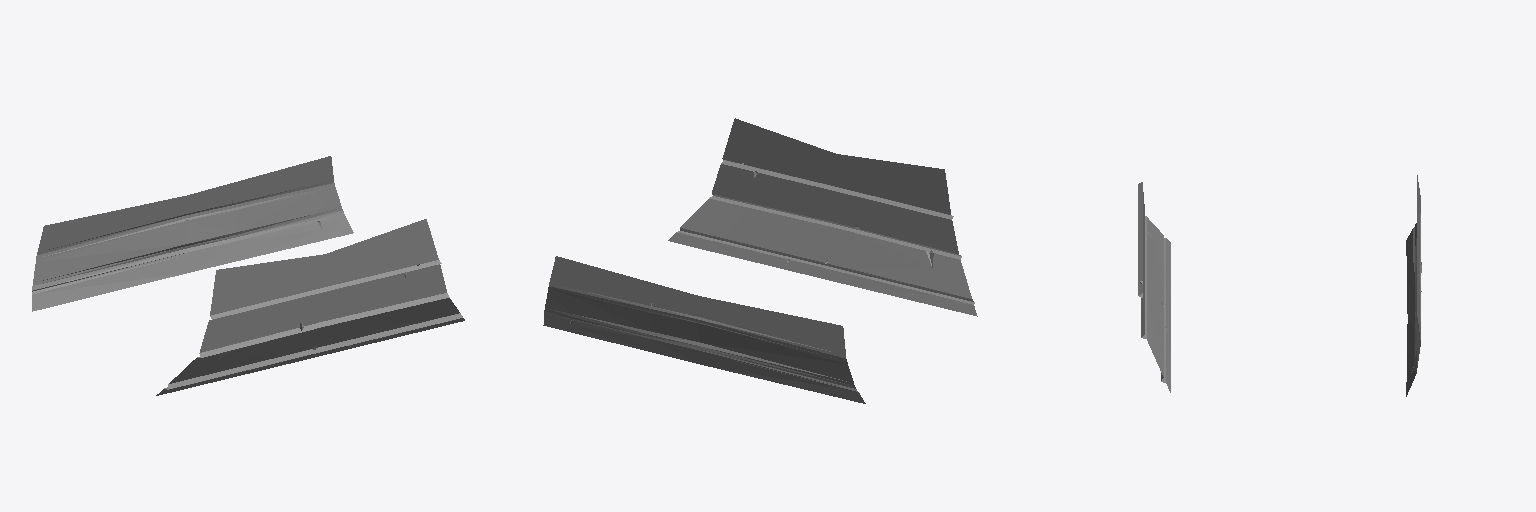
The model's file is HP_AttachStenka.obj.
3 views of the same model, side by side, from view 1: azimuth 30°, elevation 25°; view 2: azimuth 150°, elevation 25°; view 3: azimuth 270°, elevation 25° (orthographic).
Visible parts, largest first — view 1: HP_AttachStenka; view 2: HP_AttachStenka; view 3: HP_AttachStenka.
Boxes of the visible parts, x1=… form: HP_AttachStenka: x1=32, y1=156, x2=464, y2=395; HP_AttachStenka: x1=543, y1=118, x2=977, y2=403; HP_AttachStenka: x1=1138, y1=175, x2=1421, y2=396.
Bounding box in the file's own units: 66.35 × 24.67 × 50.47.